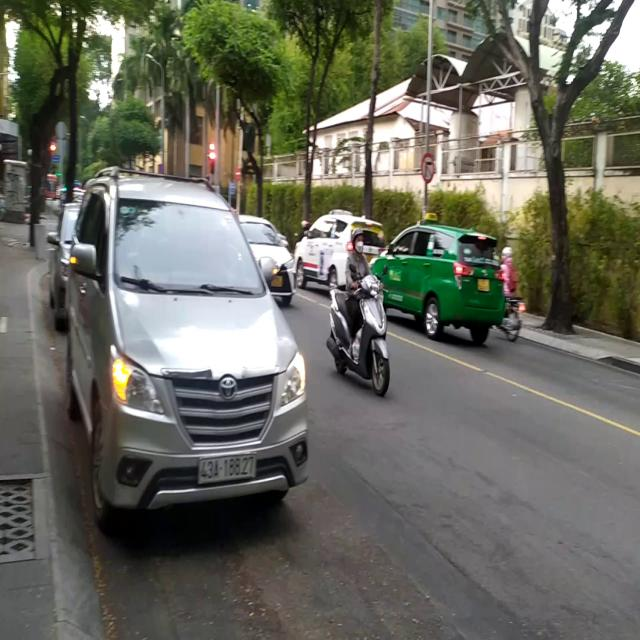bien_trang: (197, 442, 256, 490)
